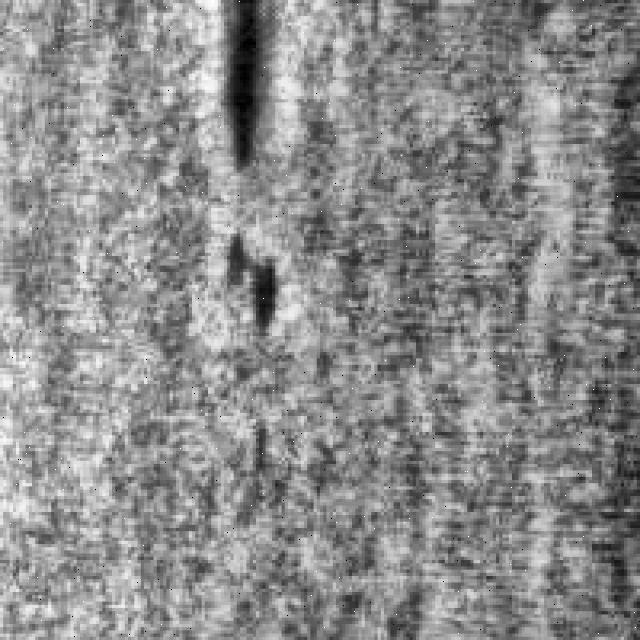Patches: (201, 0, 265, 166), (208, 220, 282, 340)
